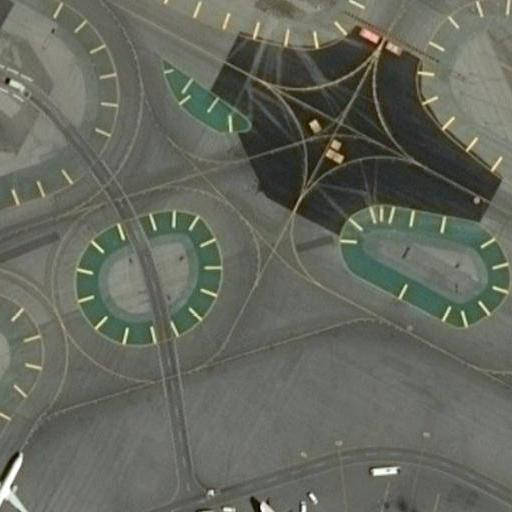Aircraft: (0, 442, 33, 512), (190, 493, 311, 512)
